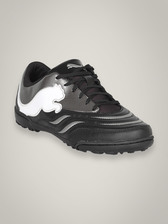shoes: (15, 58, 156, 157)
